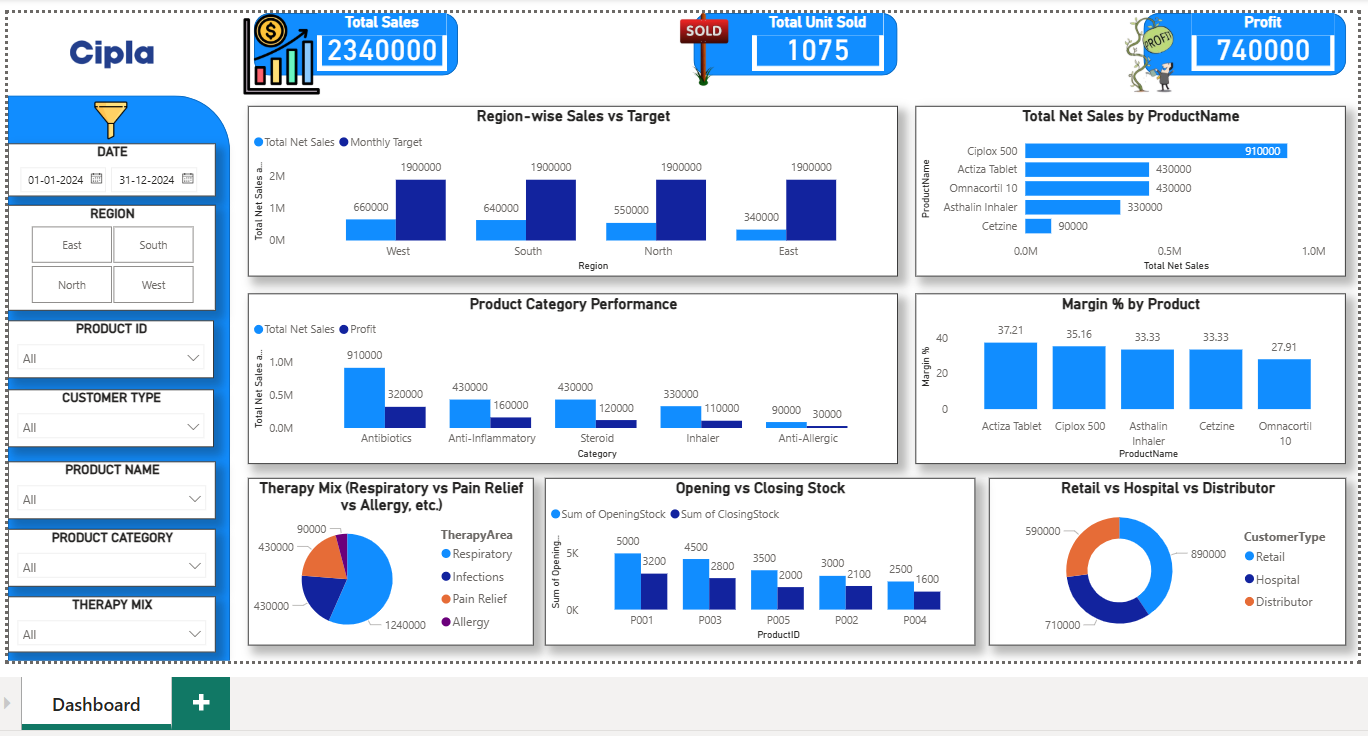

What the dashboard file says about the page in this screenshot:
{"tool":"powerbi","page":{"name":"Dashboard","canvas":[1500,720],"ordinal":0},"visuals":[{"type":"shape","box":[761.6,0,226.7,69.6],"z":0},{"type":"shape","box":[1261.4,0,225.1,69.6],"z":1000},{"type":"shape","box":[273.6,0,226.7,69.6],"z":2000},{"type":"advanceCardE03760C5AB684758B56AA29F9E6C257B","title":"Total Sales","fields":{"mainMeasure":["Sum(Fact_Sales.GrossSales)"]},"box":[343.3,0,144.1,63.1],"z":3000},{"type":"advanceCardE03760C5AB684758B56AA29F9E6C257B","title":"Total Unit Sold","fields":{"mainMeasure":["Sum(Fact_Sales.UnitsSold)"]},"box":[826.3,0,145.7,63.1],"z":4000},{"type":"advanceCardE03760C5AB684758B56AA29F9E6C257B","title":"Profit","fields":{"mainMeasure":["Fact_Sales.Profit"]},"box":[1314.8,0,158.7,63.1],"z":5000},{"type":"clusteredColumnChart","title":"Region-wise Sales vs Target","fields":{"Category":["Fact_Sales.Region"],"Y":["Fact_Sales.Total Net Sales","Fact_Sales.Monthly Target"]},"box":[267.2,103.6,722.2,189.4],"z":6000},{"type":"clusteredBarChart","fields":{"Category":["Dim_Product.ProductName"],"Y":["Fact_Sales.Total Net Sales"]},"box":[1008.8,103.6,477.7,189.4],"z":7000},{"type":"clusteredColumnChart","title":"Product Category Performance","fields":{"Category":["Dim_Product.Category"],"Y":["Fact_Sales.Total Net Sales","Fact_Sales.Profit"]},"box":[267.2,310.9,722.2,189.4],"z":8000},{"type":"pieChart","title":"Therapy Mix (Respiratory vs Pain Relief vs Allergy, etc.)","fields":{"Category":["Dim_Product.TherapyArea"],"Y":["Fact_Sales.Total Net Sales"]},"box":[267.2,516.5,317.4,186.2],"z":9000},{"type":"clusteredColumnChart","title":"Margin % by Product","fields":{"Category":["Dim_Product.ProductName"],"Y":["Fact_Sales.Margin %"]},"box":[1008.8,310.9,477.7,189.4],"z":10000},{"type":"donutChart","title":"Retail vs Hospital vs Distributor","fields":{"Category":["Fact_Sales.CustomerType"],"Y":["Fact_Sales.Total Net Sales"]},"box":[1089.7,516.5,396.7,186.2],"z":11000},{"type":"clusteredColumnChart","title":"Opening vs Closing Stock","fields":{"Category":["Dim_Product.ProductID"],"Y":["Sum(Fact_Inventory.OpeningStock)","Sum(Fact_Inventory.ClosingStock)"]},"box":[597.5,516.5,477.7,186.2],"z":12000},{"type":"image","box":[246.1,0,115,92.3],"z":13000},{"type":"image","box":[722.2,0,98.8,92.3],"z":14000},{"type":"image","box":[1224.1,0,90.7,92.3],"z":15000},{"type":"image","box":[38.9,0,153.8,92.3],"z":16000},{"type":"shape","box":[0,92.3,246.6,628.2],"z":17000},{"type":"slicer","title":"DATE","fields":{"Values":["Dim_Date.Date"]},"box":[0,145.5,230.7,58.6],"z":18000},{"type":"slicer","title":"REGION","fields":{"Values":["Fact_Sales.Region"]},"box":[0,212.9,230.7,117.1],"z":19000},{"type":"slicer","title":"PRODUCT NAME","fields":{"Values":["Dim_Product.ProductName"]},"box":[0,498.6,230.7,63.9],"z":20000},{"type":"slicer","title":"PRODUCT CATEGORY","fields":{"Values":["Dim_Product.Category"]},"box":[0,573.2,230.7,63.9],"z":21000},{"type":"slicer","title":"THERAPY MIX","fields":{"Values":["Dim_Product.TherapyArea"]},"box":[0,647.7,230.7,62.1],"z":22000},{"type":"slicer","title":"PRODUCT ID","fields":{"Values":["Dim_Product.ProductID"]},"box":[0,342.5,228.9,63.9],"z":23000},{"type":"slicer","title":"CUSTOMER TYPE","fields":{"Values":["Fact_Sales.CustomerType"]},"box":[0,418.8,228.9,63.9],"z":24000},{"type":"image","box":[56.7,98.8,115,42.1],"z":25000}]}

Visuals, with their boxes in screenshot pixels (x1, y1, x2, y2):
shape: [689, 11, 892, 73]
shape: [1138, 11, 1341, 73]
shape: [250, 11, 454, 73]
"Total Sales" advanceCardE03760C5AB684758B56AA29F9E6C257B: [312, 11, 442, 67]
"Total Unit Sold" advanceCardE03760C5AB684758B56AA29F9E6C257B: [747, 11, 878, 67]
"Profit" advanceCardE03760C5AB684758B56AA29F9E6C257B: [1186, 11, 1329, 67]
"Region-wise Sales vs Target" clusteredColumnChart: [244, 104, 893, 274]
clusteredBarChart - Dim_Product.ProductName x Fact_Sales.Total Net Sales: [911, 104, 1341, 274]
"Product Category Performance" clusteredColumnChart: [244, 290, 893, 461]
"Therapy Mix (Respiratory vs Pain Relief vs Allergy, etc.)" pieChart: [244, 475, 529, 643]
"Margin % by Product" clusteredColumnChart: [911, 290, 1341, 461]
"Retail vs Hospital vs Distributor" donutChart: [984, 475, 1340, 643]
"Opening vs Closing Stock" clusteredColumnChart: [541, 475, 971, 643]
image: [225, 11, 328, 94]
image: [653, 11, 742, 94]
image: [1105, 11, 1186, 94]
image: [39, 11, 177, 94]
shape: [4, 94, 225, 659]
"DATE" slicer: [4, 142, 211, 194]
"REGION" slicer: [4, 202, 211, 307]
"PRODUCT NAME" slicer: [4, 459, 211, 517]
"PRODUCT CATEGORY" slicer: [4, 526, 211, 584]
"THERAPY MIX" slicer: [4, 593, 211, 649]
"PRODUCT ID" slicer: [4, 319, 209, 376]
"CUSTOMER TYPE" slicer: [4, 387, 209, 445]
image: [55, 100, 158, 137]
